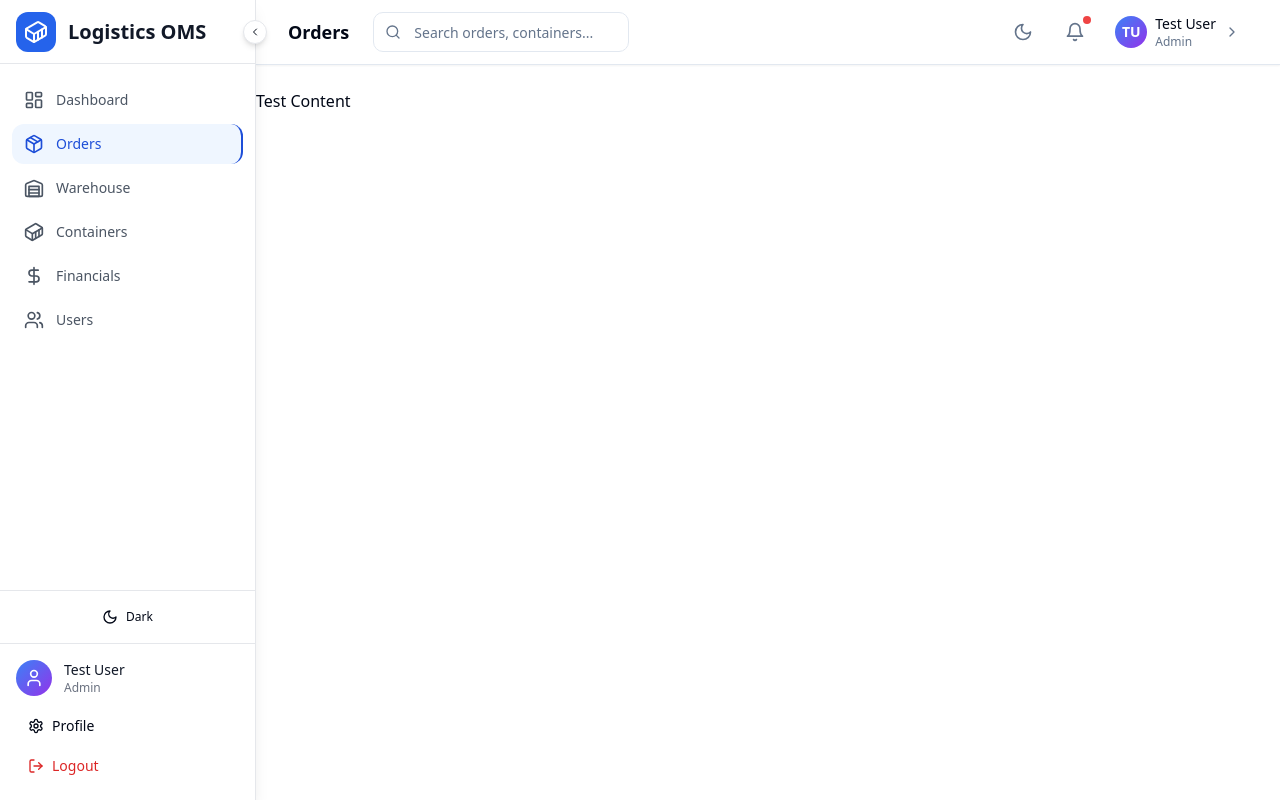
Test case: DashboardLayout Component - All Elements and Role-Based Features › Accessibility Tests › has accessible button labels
The image size is (1280, 800).
Open user menu to see all buttons
Click the button with aria-label "User menu" at x=1178, y=32, box x1=1107 y1=6 x2=1248 y2=58
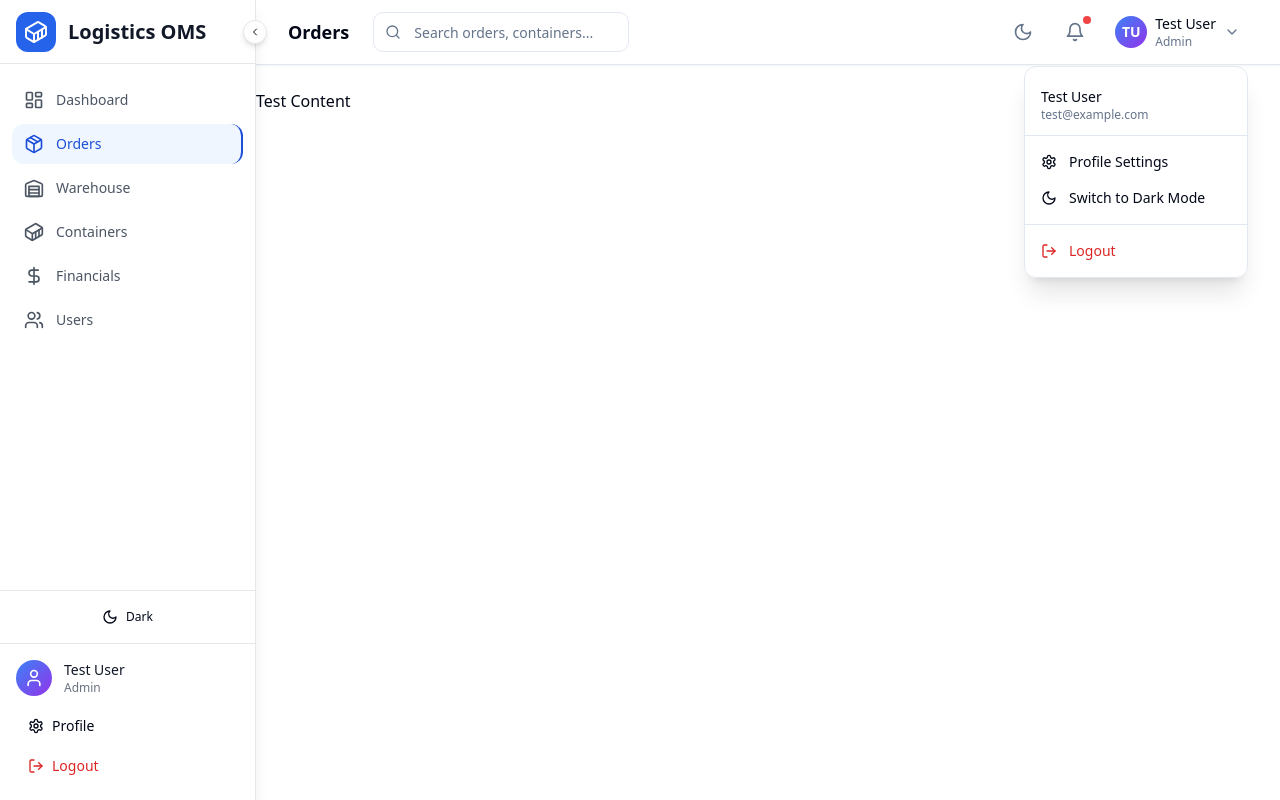
Expected: the 2nd button "Logout" is shown, x1=16 y1=748 x2=239 y2=784
Expected: the link "Profile Settings" is shown, x1=1041 y1=152 x2=1168 y2=171
